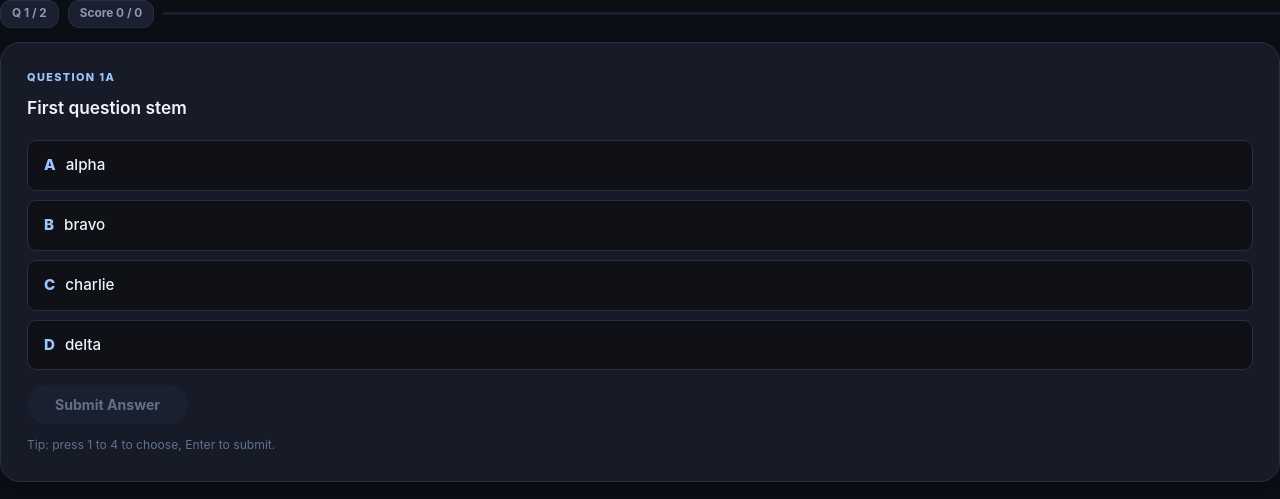
Scenario: Quiz › disables submit until an option is selected
Expected: the button "Submit Answer" is disabled, [27,385,188,424]
Step 1. Click the text "alpha" → {"x": 86, "y": 166}, box [66,154,105,177]
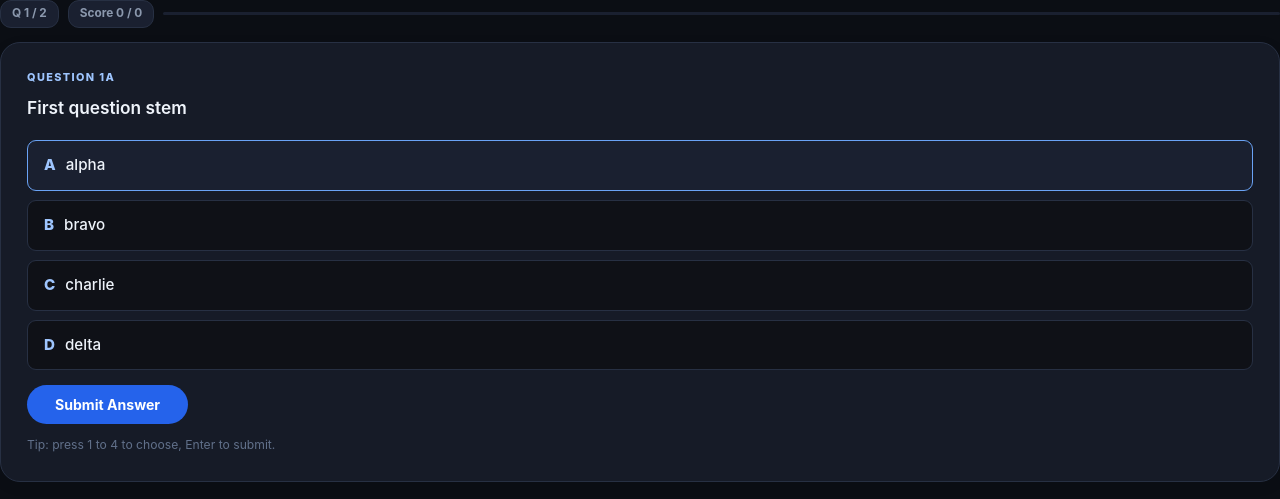
Result: the button "Submit Answer" is enabled at [27,385,188,424]
